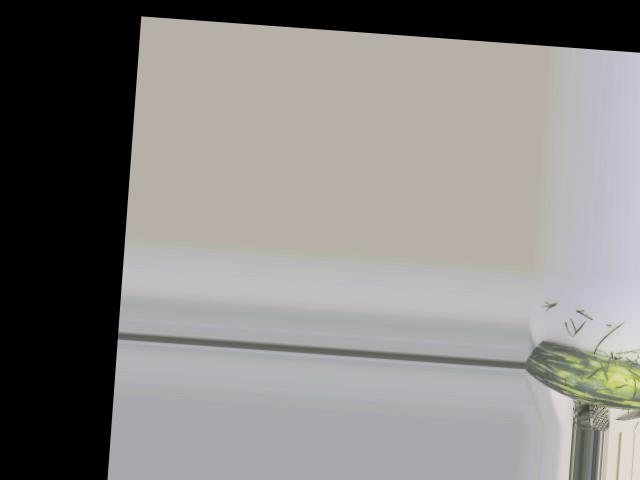cucumber: (523, 339, 640, 413)
